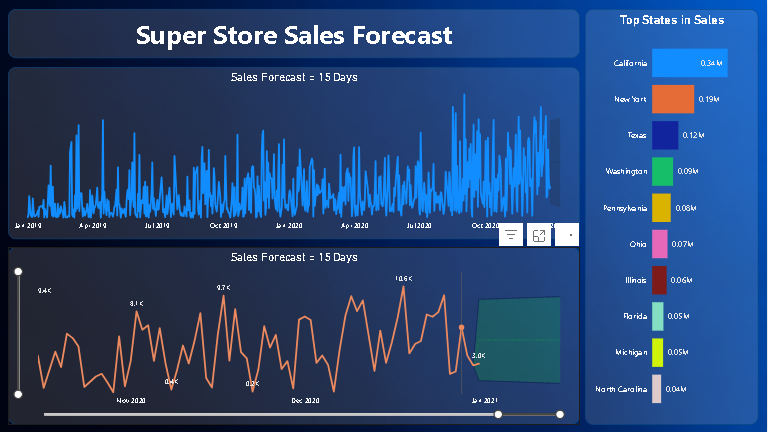

What the dashboard file says about the page in this screenshot:
{"tool":"powerbi","page":{"name":"Forecast","canvas":[1280,720],"ordinal":2},"visuals":[{"type":"lineChart","title":"Sales Forecast = 15 Days","fields":{"Y":["Sum(SuperStore_Sales_Dataset.Sales)"],"Category":["SuperStore_Sales_Dataset.Order Date"]},"box":[14.4,112.2,953.3,286.7],"z":0},{"type":"lineChart","title":"Sales Forecast = 15 Days","fields":{"Y":["Sum(SuperStore_Sales_Dataset.Sales)"],"Category":["SuperStore_Sales_Dataset.Order Date"]},"box":[14.4,412.2,953.3,295.6],"z":1000},{"type":"textbox","box":[14.4,15.6,953.3,82.2],"z":2000},{"type":"clusteredBarChart","title":"Top States in Sales","fields":{"Category":["SuperStore_Sales_Dataset.State"],"Y":["Sum(SuperStore_Sales_Dataset.Sales)"]},"box":[977.1,15.7,288.6,692.9],"z":3000}]}

Visuals, with their boxes in screenshot pixels (x1, y1, x2, y2), scaled from the page's 1280x720 canvas onto the 768x432 screenshot:
"Sales Forecast = 15 Days" lineChart: [9, 67, 581, 239]
"Sales Forecast = 15 Days" lineChart: [9, 247, 581, 425]
textbox: [9, 9, 581, 59]
"Top States in Sales" clusteredBarChart: [586, 9, 759, 425]
